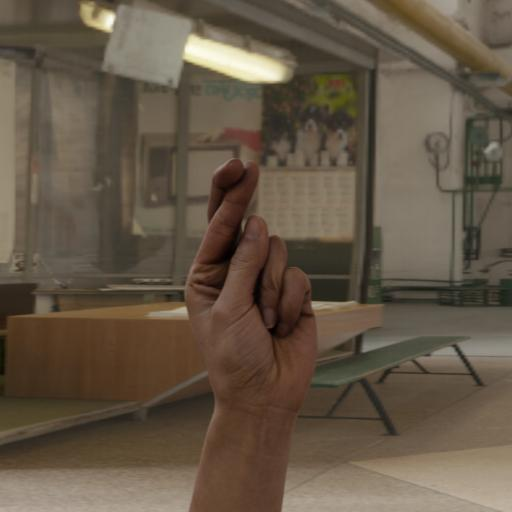R: (186, 157, 328, 426)
